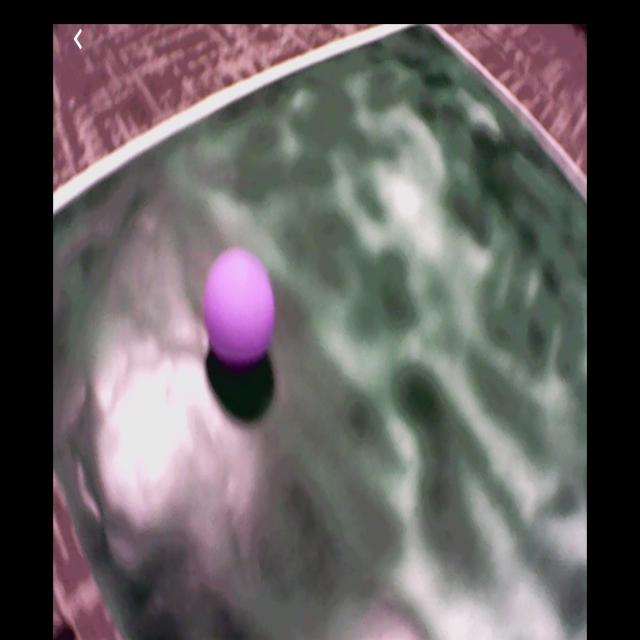ball: (205, 250, 274, 370)
